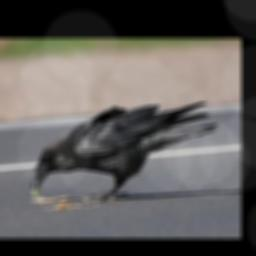Crow: (30, 102, 220, 200)
